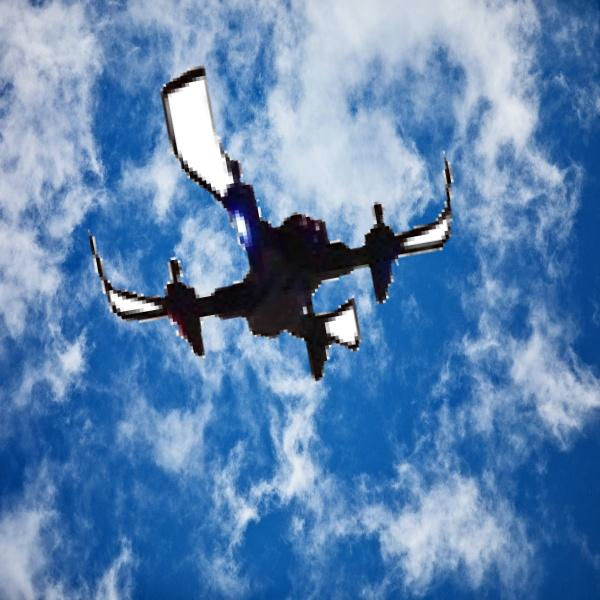drone: (88, 24, 471, 407)
